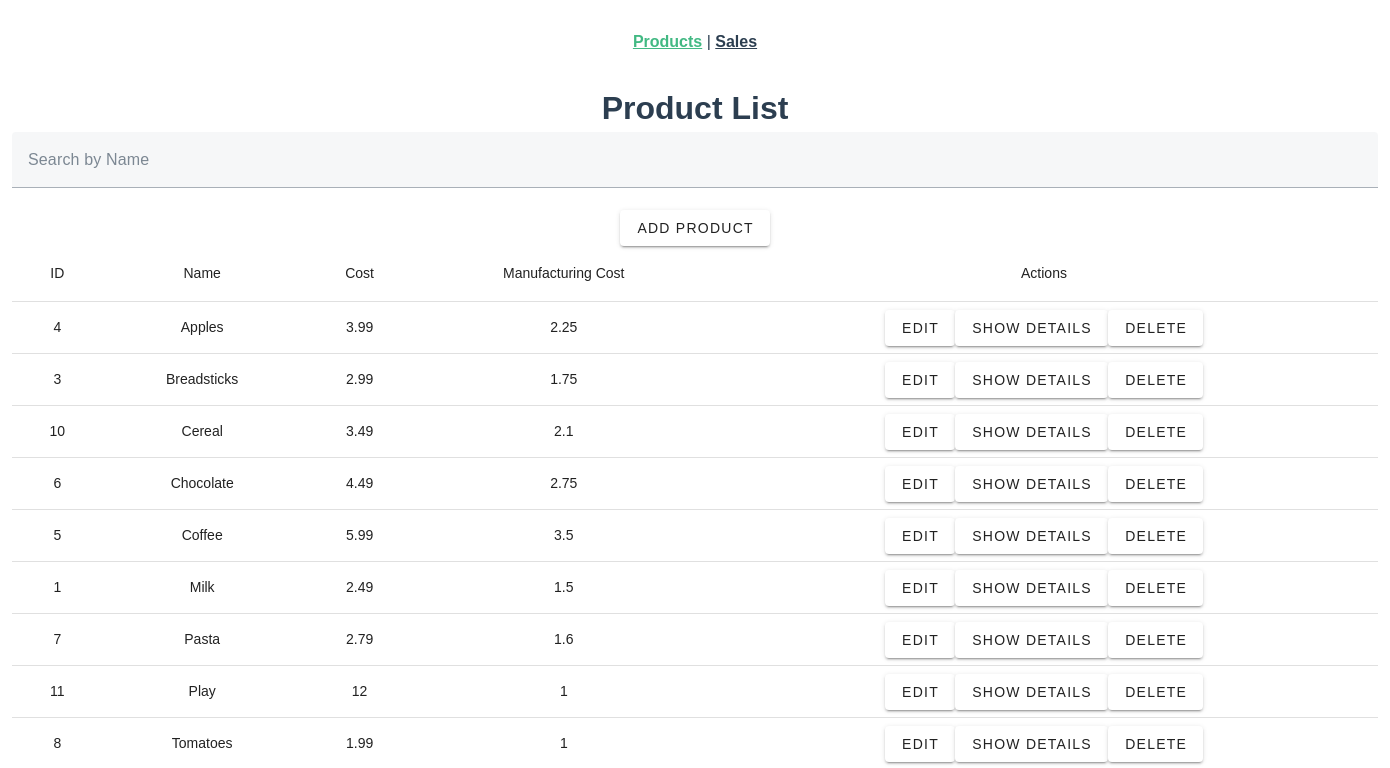
Edit product › Should edit a product
The width and height of the screenshot is (1390, 768).
Step 1. Click the button "Edit" in the row of "Apples" → (920, 328), box [885,310,955,346]
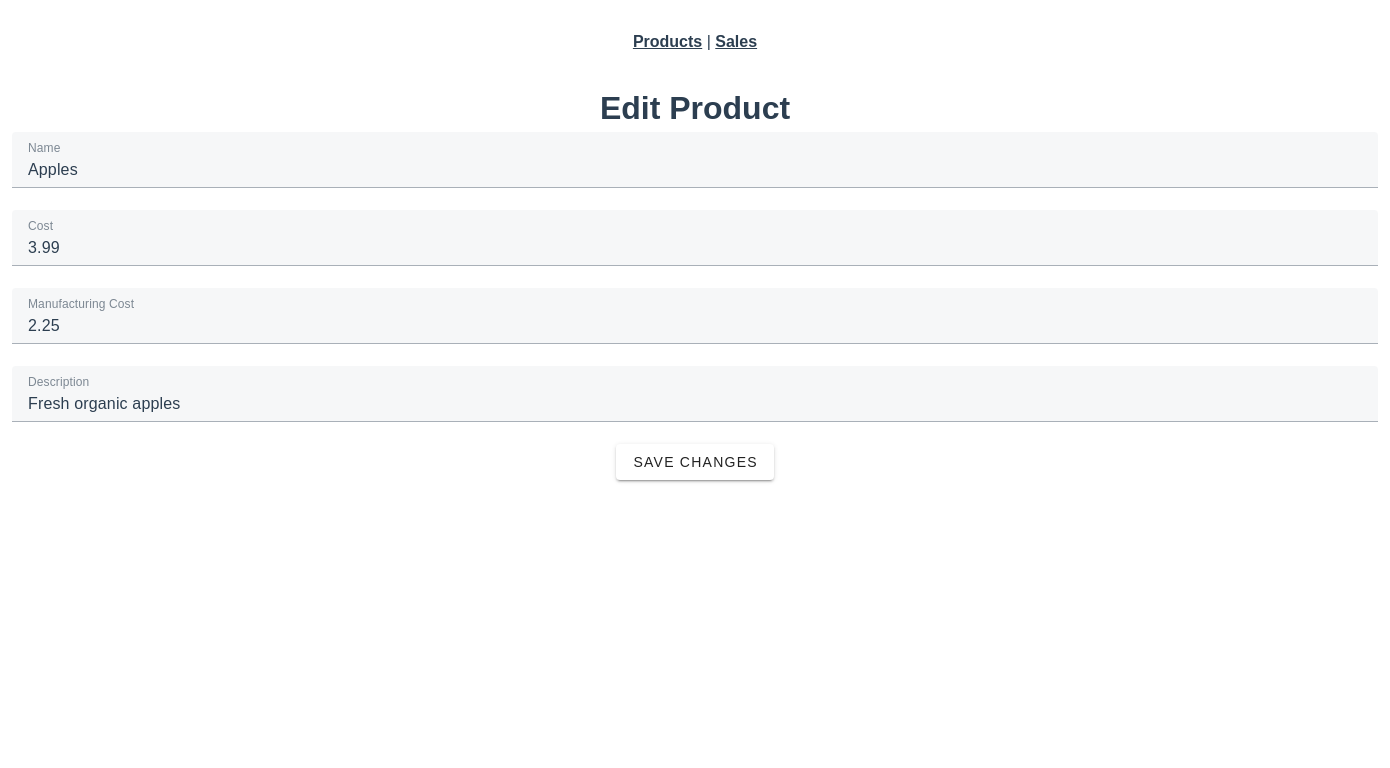
Step 2. Replace the text in the element with test id "product-name" with "Bananas" → (695, 171), box [12,132,1378,210]
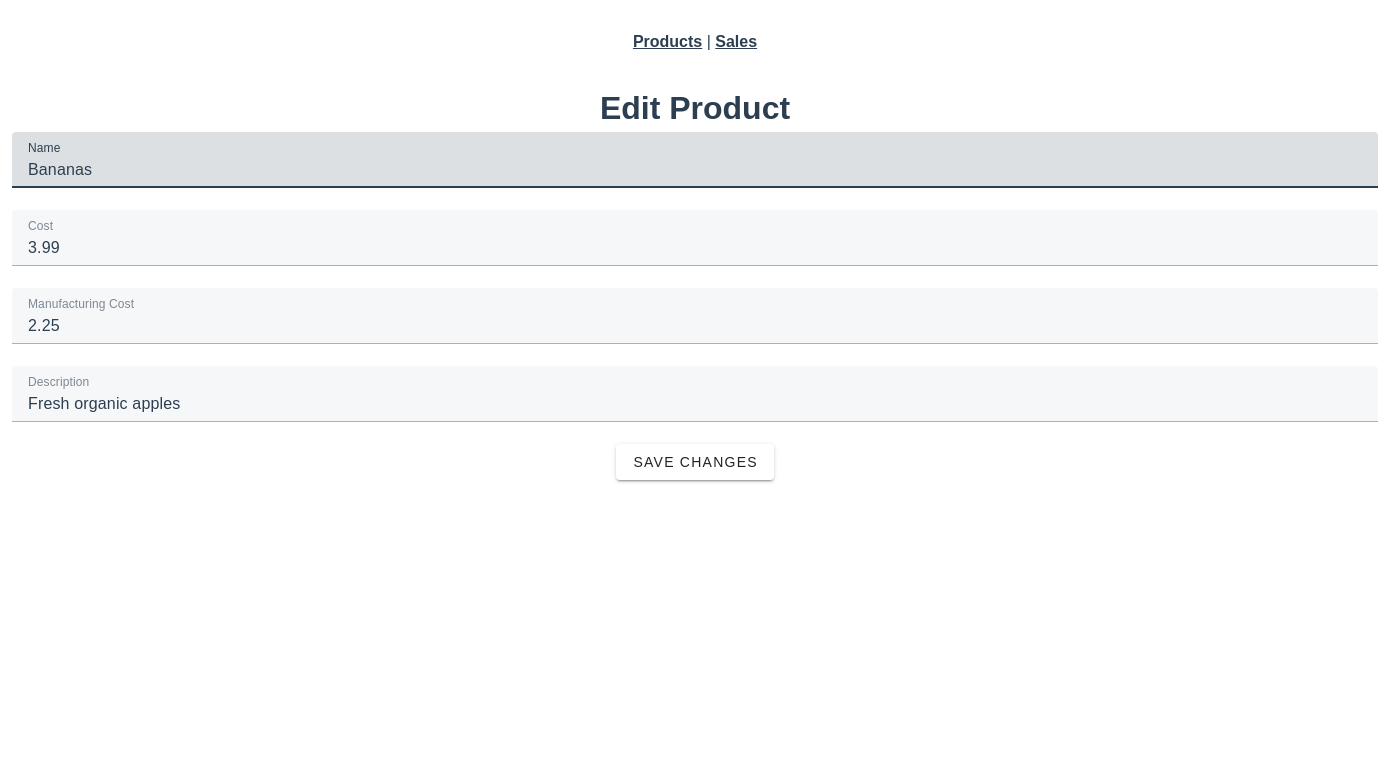
Step 3. Click the button "Save Changes" → (695, 462), box [616,444,774,480]
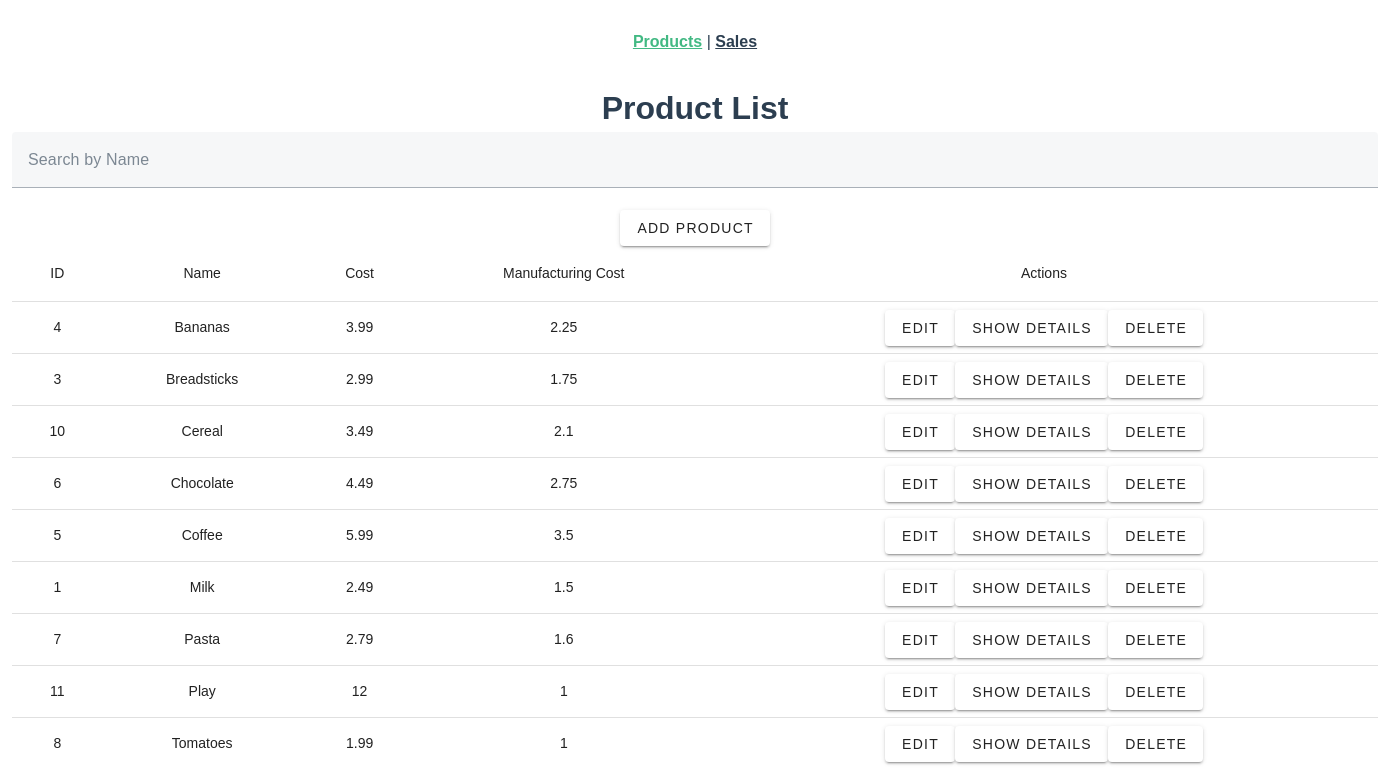
Expected: the text "Apples" is not shown
Result: the text "Bananas" is shown at [103,302,302,354]
